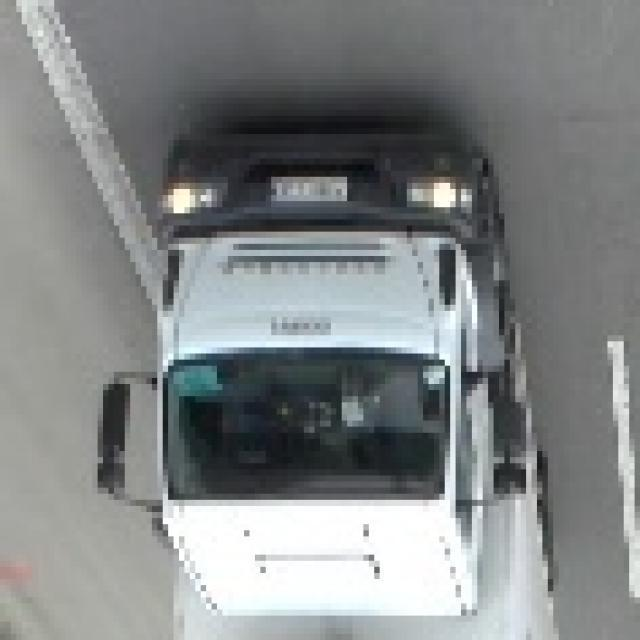truck: (103, 128, 570, 640)
